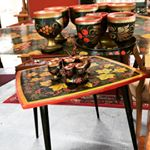cups: (31, 9, 67, 53), (105, 10, 141, 44), (74, 14, 105, 50)
